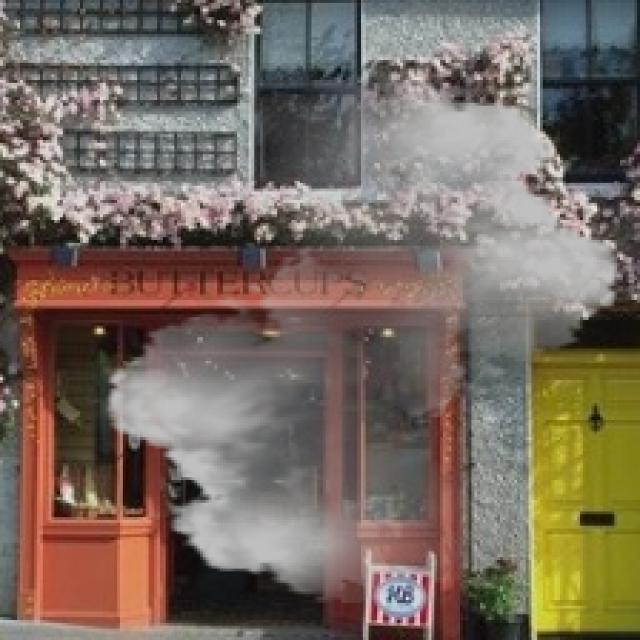smoke: (89, 71, 637, 603)
